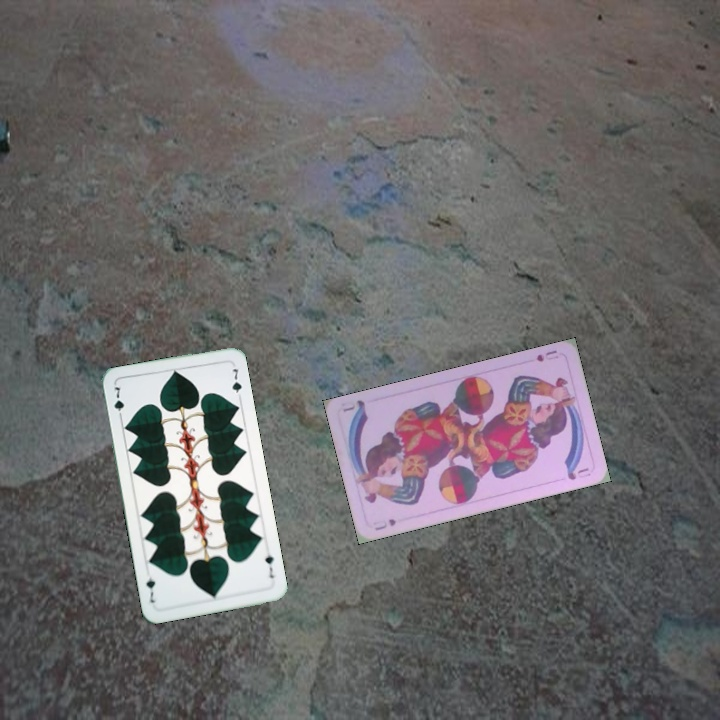G7: (110, 383, 127, 422), (261, 546, 277, 581)
SU: (532, 346, 561, 364), (371, 515, 398, 533)
